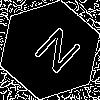N: (25, 25, 84, 83)
